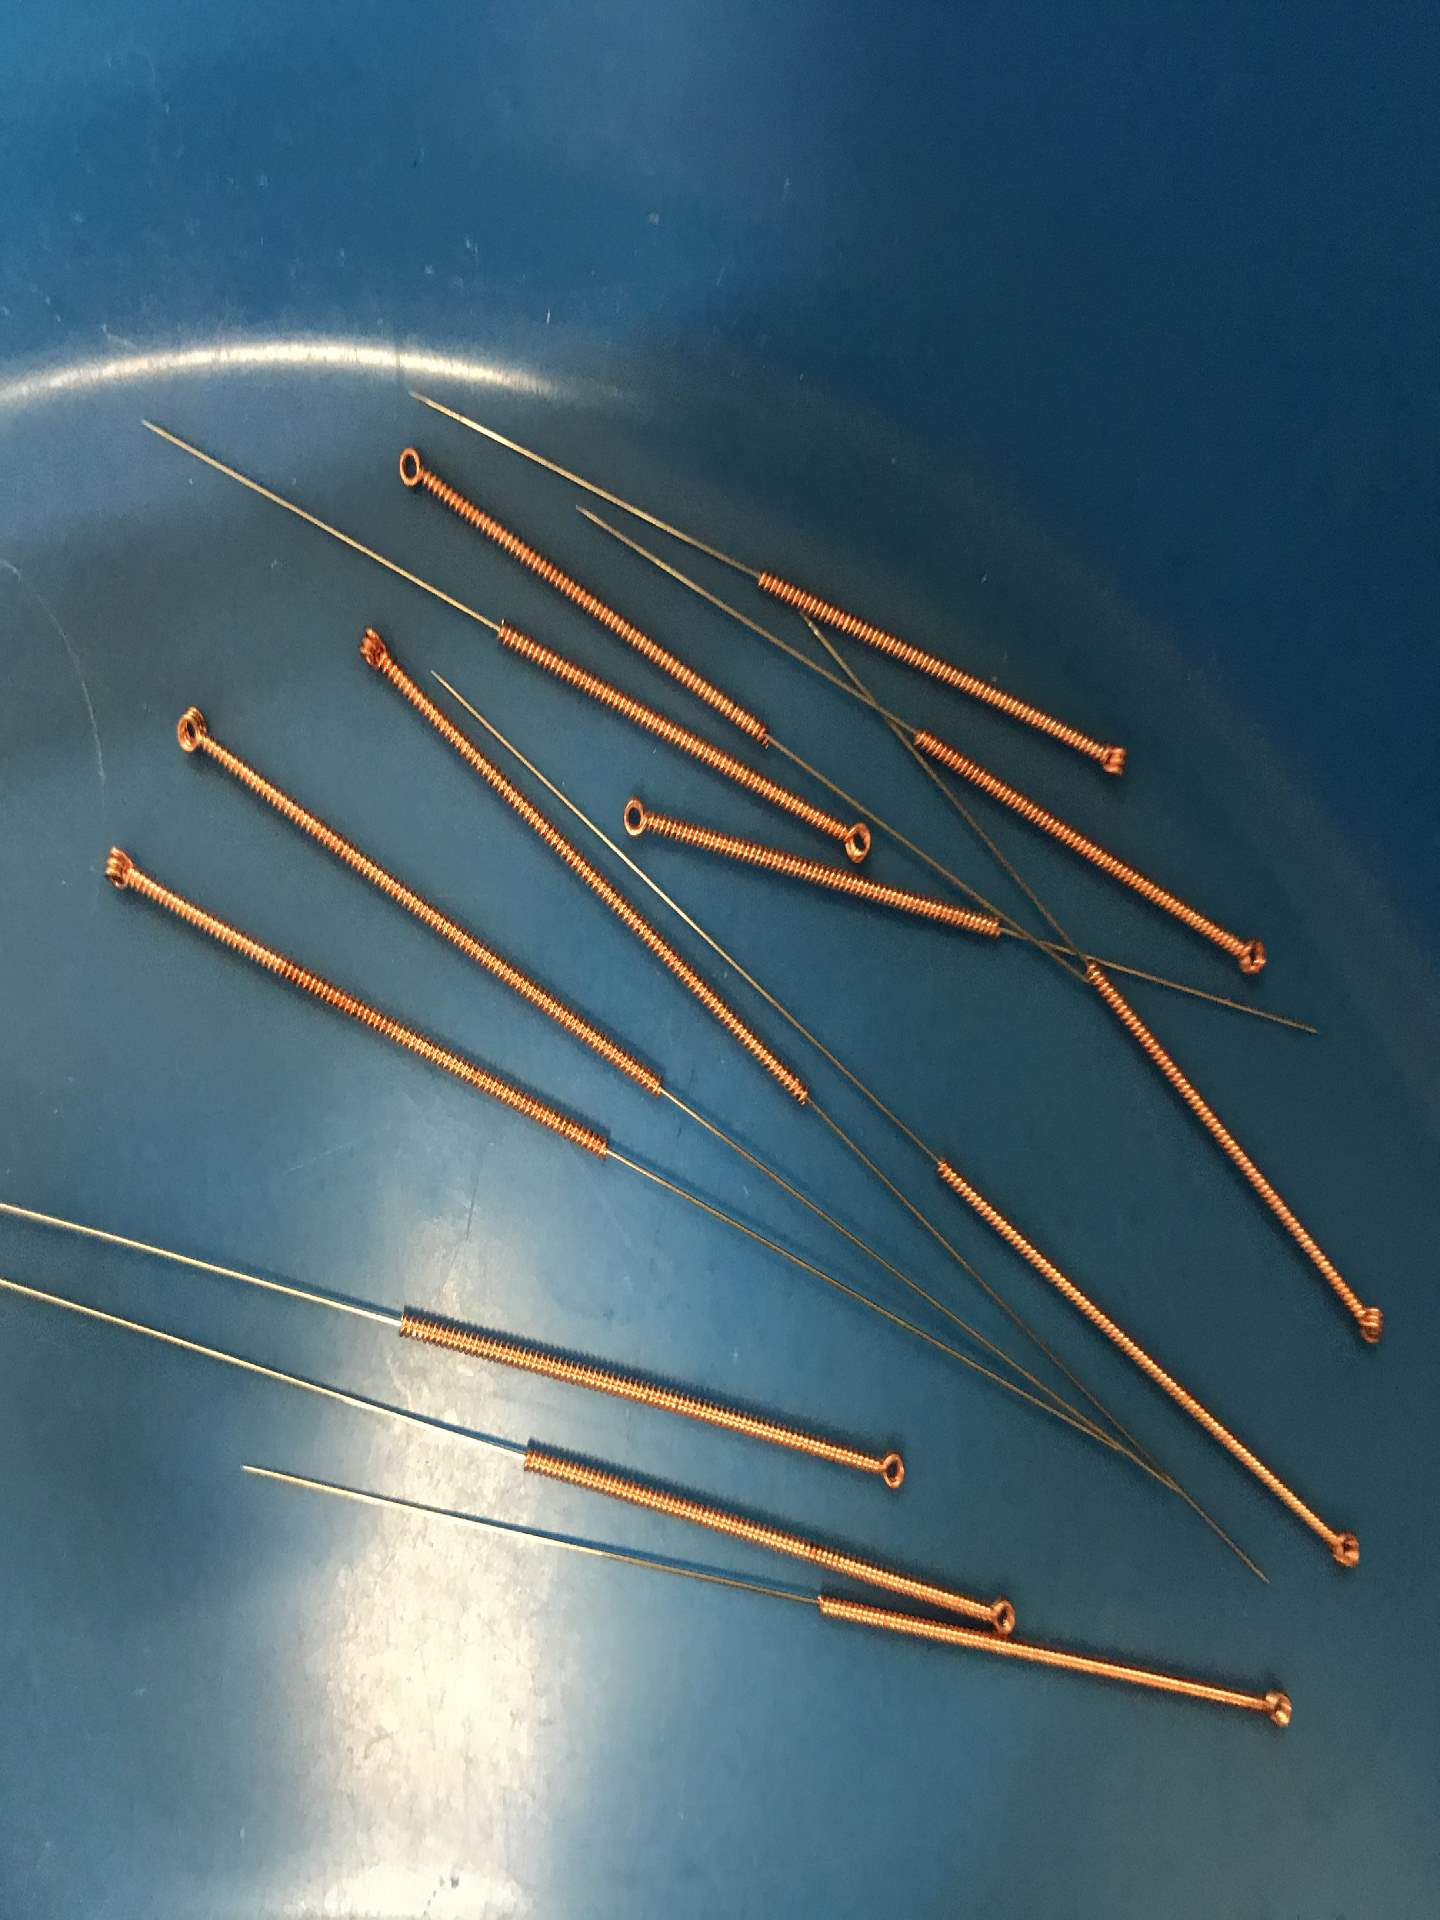needle: (154, 695, 228, 770), (88, 830, 151, 906), (381, 437, 451, 502), (858, 1433, 920, 1504), (1317, 1510, 1373, 1584), (340, 617, 402, 680), (607, 788, 667, 853), (1218, 927, 1280, 989), (1078, 729, 1141, 791), (821, 807, 882, 871), (1342, 1290, 1396, 1356), (1243, 1677, 1302, 1737), (974, 1584, 1029, 1640)
